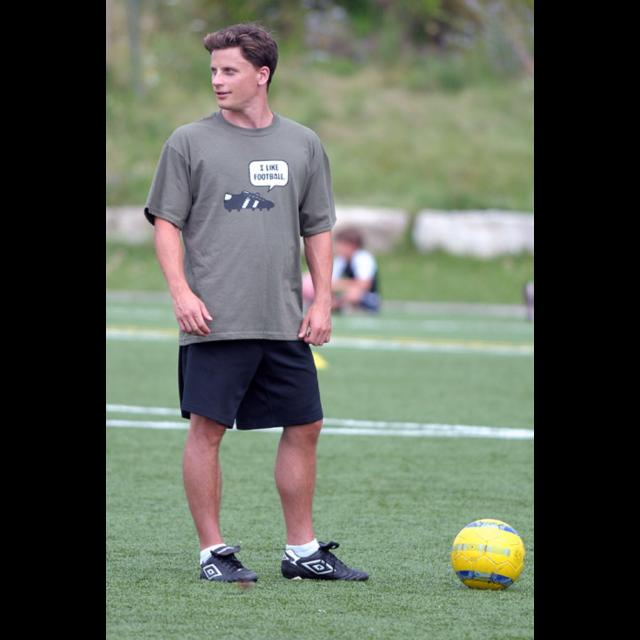Football: (448, 516, 528, 588)
